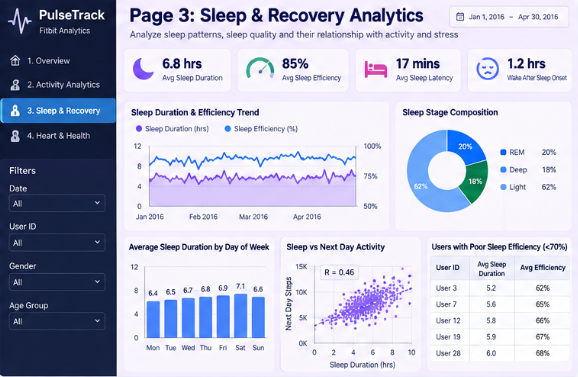

Layout of this report page (visuals, bound fields, positions):
{"tool":"powerbi","page":{"name":"Sleep & Recovery","canvas":[1280,720],"ordinal":2},"visuals":[{"type":"shape","box":[0,0,200,720],"z":0},{"type":"shape","box":[12,168,176,36],"z":1000},{"type":"textbox","box":[14,14,180,52],"z":2000},{"type":"textbox","box":[20,89,168,28],"z":3000},{"type":"textbox","box":[20,131,168,28],"z":4000},{"type":"textbox","box":[20,173,168,28],"z":5000},{"type":"textbox","box":[20,215,168,28],"z":6000},{"type":"actionButton","box":[12,84,176,36],"z":7000},{"type":"actionButton","box":[12,126,176,36],"z":8000},{"type":"actionButton","box":[12,168,176,36],"z":9000},{"type":"actionButton","box":[12,210,176,36],"z":10000},{"type":"textbox","box":[13.9,262.2,170.2,32.1],"z":11000},{"type":"slicer","title":"User ID","fields":{"Values":["dim_user.UserLabel"]},"box":[12,294,176,58],"z":12000},{"type":"slicer","title":"Activity Segment","fields":{"Values":["dim_user.ActivitySegment"]},"box":[12,358,176,58],"z":13000},{"type":"slicer","title":"Weekday","fields":{"Values":["dim_date.WeekdayName"]},"box":[12,422,176,58],"z":14000},{"type":"textbox","box":[216.2,0,692.4,54.6],"z":15000},{"type":"textbox","box":[216.3,39.5,764,30.2],"z":16000},{"type":"slicer","fields":{"Values":["dim_date.Date"]},"box":[1000,14,264,52],"z":17000},{"type":"card","title":"Avg Sleep Duration (hrs)","fields":{"Values":["_Measures.Avg Sleep Hrs"]},"box":[216,82,253,88],"z":18000},{"type":"card","title":"Avg Sleep Efficiency","fields":{"Values":["_Measures.Sleep Efficiency %"]},"box":[481,82,253,88],"z":19000},{"type":"card","title":"Avg Time In Bed (hrs)","fields":{"Values":["_Measures.Avg Time In Bed Hrs"]},"box":[746,82,253,88],"z":20000},{"type":"card","title":"Sleep Debt (hrs)","fields":{"Values":["_Measures.Sleep Debt Hrs"]},"box":[1011,82,253,88],"z":21000},{"type":"lineChart","title":"Sleep Duration & Efficiency Trend","fields":{"Category":["dim_date.Date"],"Y":["_Measures.Avg Sleep Hrs"],"Y2":["_Measures.Sleep Efficiency %"]},"box":[216,182,640,250],"z":22000},{"type":"donutChart","title":"Sleep Composition (Asleep / Restless / Awake)","fields":{"Y":["_Measures.Asleep Min","_Measures.Restless Min","_Measures.Awake Min"]},"box":[868,182,396,250],"z":23000},{"type":"clusteredColumnChart","title":"Average Sleep Duration by Day of Week","fields":{"Category":["dim_date.WeekdayName"],"Y":["_Measures.Avg Sleep Hrs"]},"box":[216,444,340,264],"z":24000},{"type":"scatterChart","title":"Sleep vs Activity (by User)","fields":{"Category":["dim_user.UserLabel"],"X":["_Measures.Avg Sleep Hrs"],"Y":["_Measures.Avg Daily Steps"]},"box":[568,444,340,264],"z":25000},{"type":"tableEx","title":"Users by Sleep Efficiency (lowest first)","fields":{"Values":["dim_user.UserLabel","_Measures.Avg Sleep Hrs","_Measures.Sleep Efficiency %"]},"box":[920,444,344,264],"z":26000}]}

Visuals, with their boxes on the page's 1280x720 design canvas (x1, y1, x2, y2). These are canvas units, not pixel positions in the 578x377 screenshot, which may show the page scaled, cropped or inside an application window:
shape: box(0, 0, 200, 720)
shape: box(12, 168, 188, 204)
textbox: box(14, 14, 194, 66)
textbox: box(20, 89, 188, 117)
textbox: box(20, 131, 188, 159)
textbox: box(20, 173, 188, 201)
textbox: box(20, 215, 188, 243)
actionButton: box(12, 84, 188, 120)
actionButton: box(12, 126, 188, 162)
actionButton: box(12, 168, 188, 204)
actionButton: box(12, 210, 188, 246)
textbox: box(14, 262, 184, 294)
"User ID" slicer: box(12, 294, 188, 352)
"Activity Segment" slicer: box(12, 358, 188, 416)
"Weekday" slicer: box(12, 422, 188, 480)
textbox: box(216, 0, 909, 55)
textbox: box(216, 40, 980, 70)
slicer - dim_date.Date: box(1000, 14, 1264, 66)
"Avg Sleep Duration (hrs)" card: box(216, 82, 469, 170)
"Avg Sleep Efficiency" card: box(481, 82, 734, 170)
"Avg Time In Bed (hrs)" card: box(746, 82, 999, 170)
"Sleep Debt (hrs)" card: box(1011, 82, 1264, 170)
"Sleep Duration & Efficiency Trend" lineChart: box(216, 182, 856, 432)
"Sleep Composition (Asleep / Restless / Awake)" donutChart: box(868, 182, 1264, 432)
"Average Sleep Duration by Day of Week" clusteredColumnChart: box(216, 444, 556, 708)
"Sleep vs Activity (by User)" scatterChart: box(568, 444, 908, 708)
"Users by Sleep Efficiency (lowest first)" tableEx: box(920, 444, 1264, 708)
